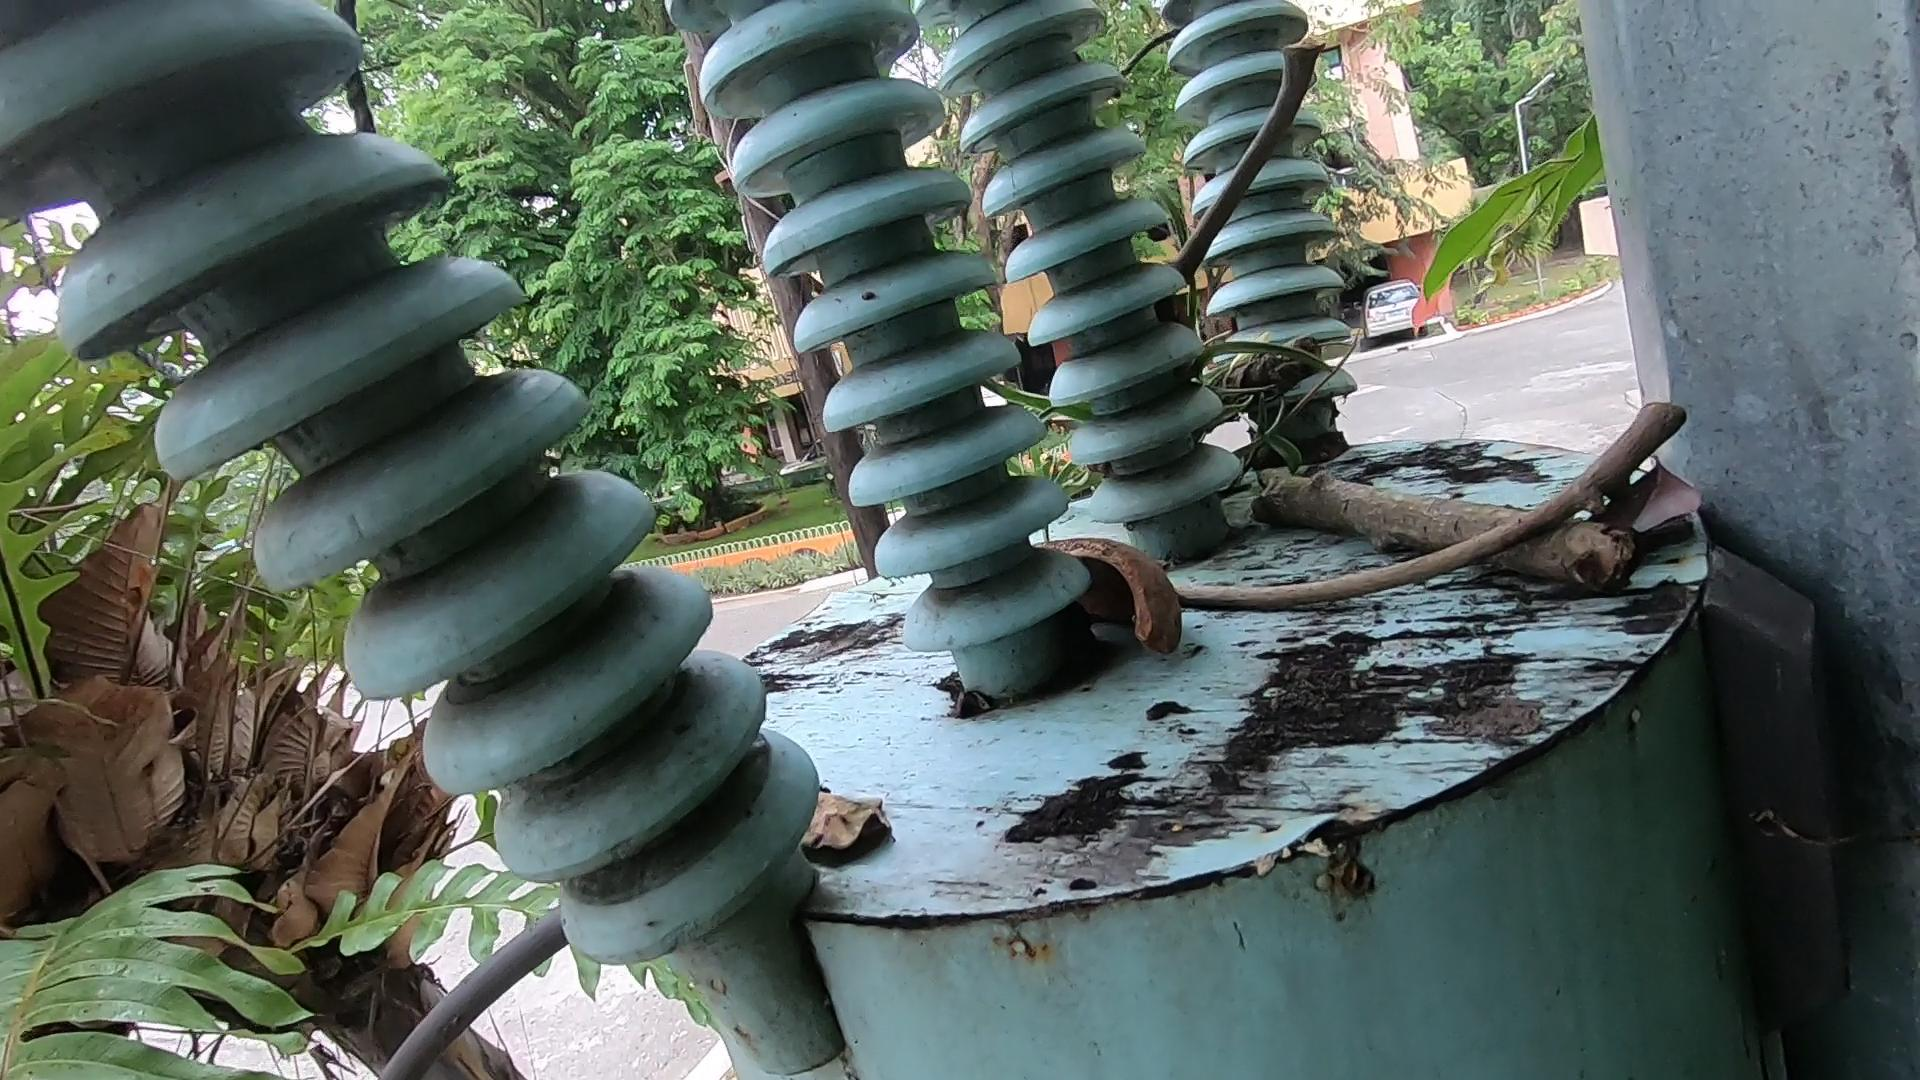branch with leaves: (1126, 265, 1751, 694)
leaf: (738, 703, 934, 911)
mahogany fruit: (981, 471, 1215, 682)
tree branch: (1129, 509, 1651, 621), (1145, 1, 1298, 332)
